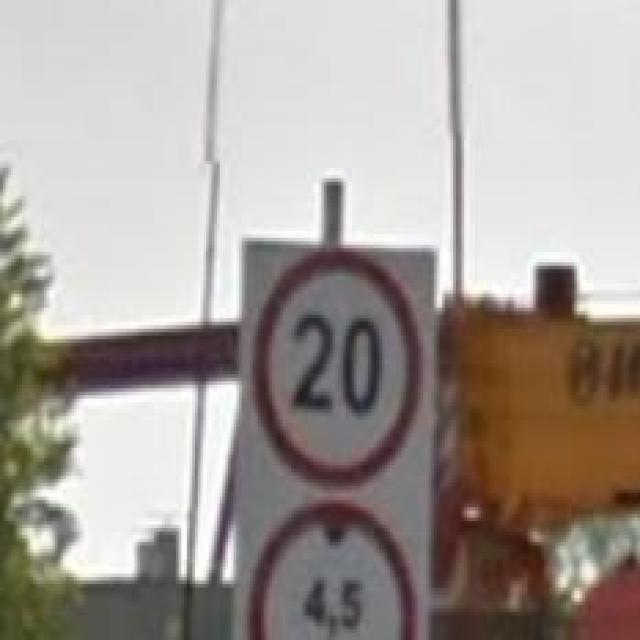Ograniczenie predkosci do 20: (252, 244, 420, 486)
